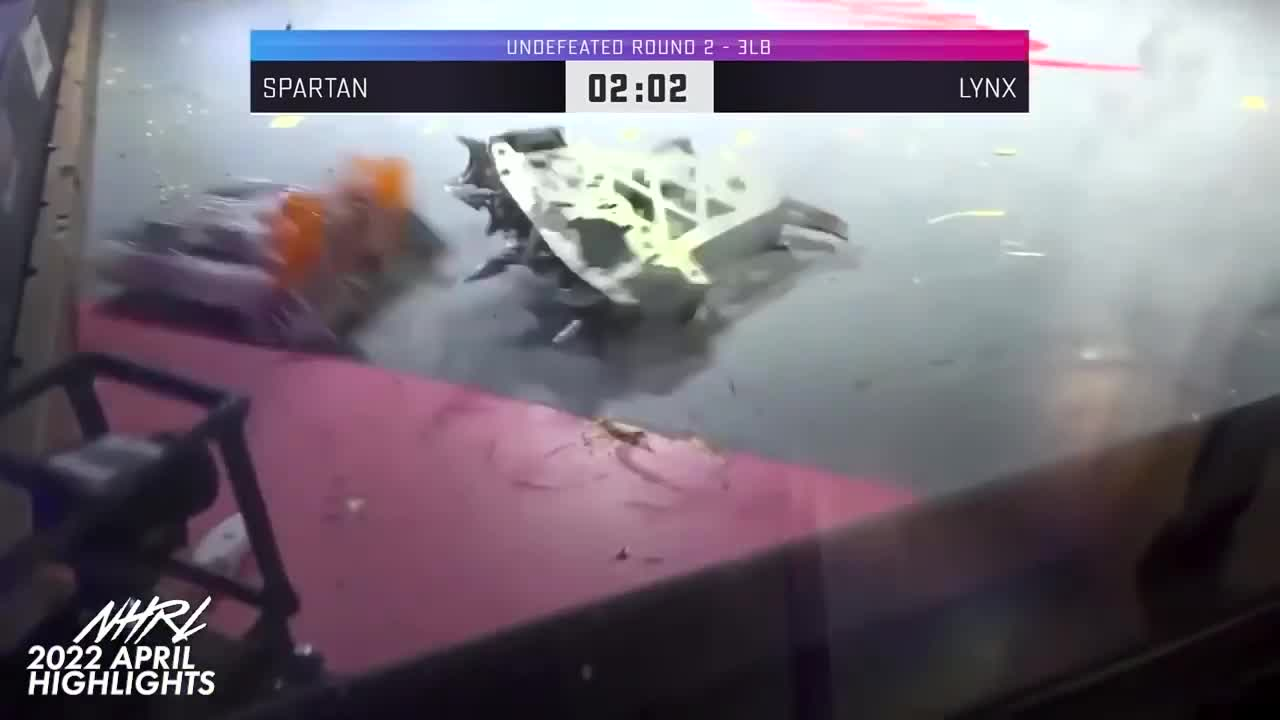combatbot: (448, 121, 862, 355), (95, 159, 447, 357)
